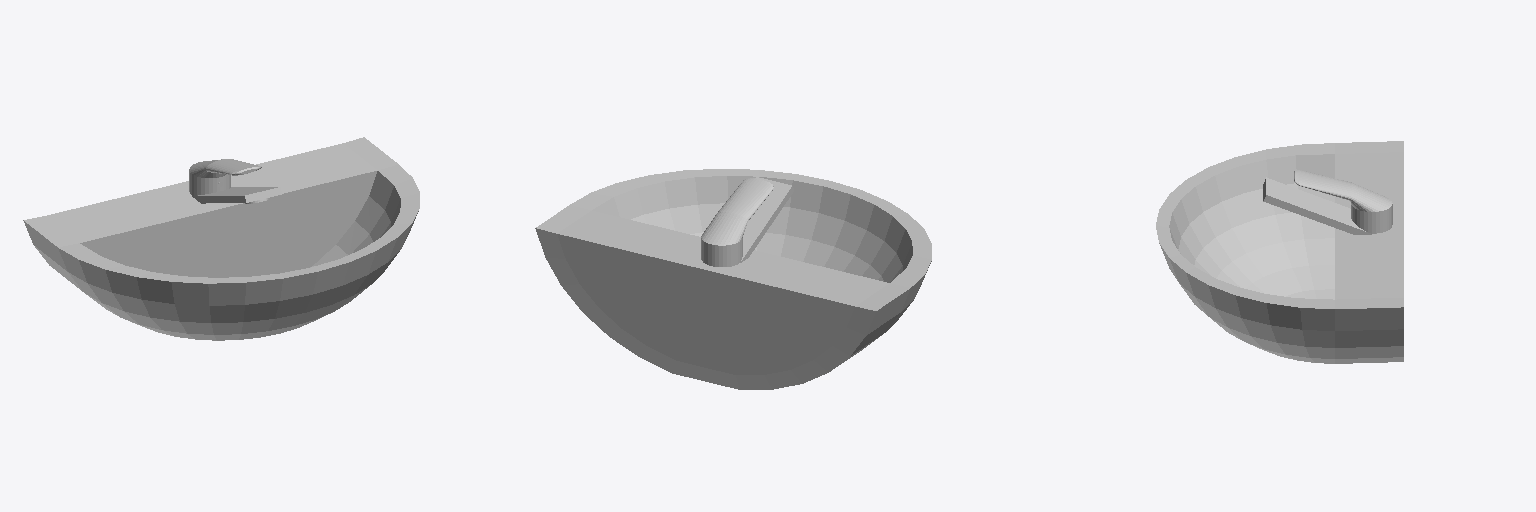
File: Basin.obj
3 views of the same model, side by side, from view 1: azimuth 30°, elevation 25°; view 2: azimuth 150°, elevation 25°; view 3: azimuth 270°, elevation 25° (orthographic).
Bounding box in the file's own units: 1.42 × 0.6542 × 0.8976.